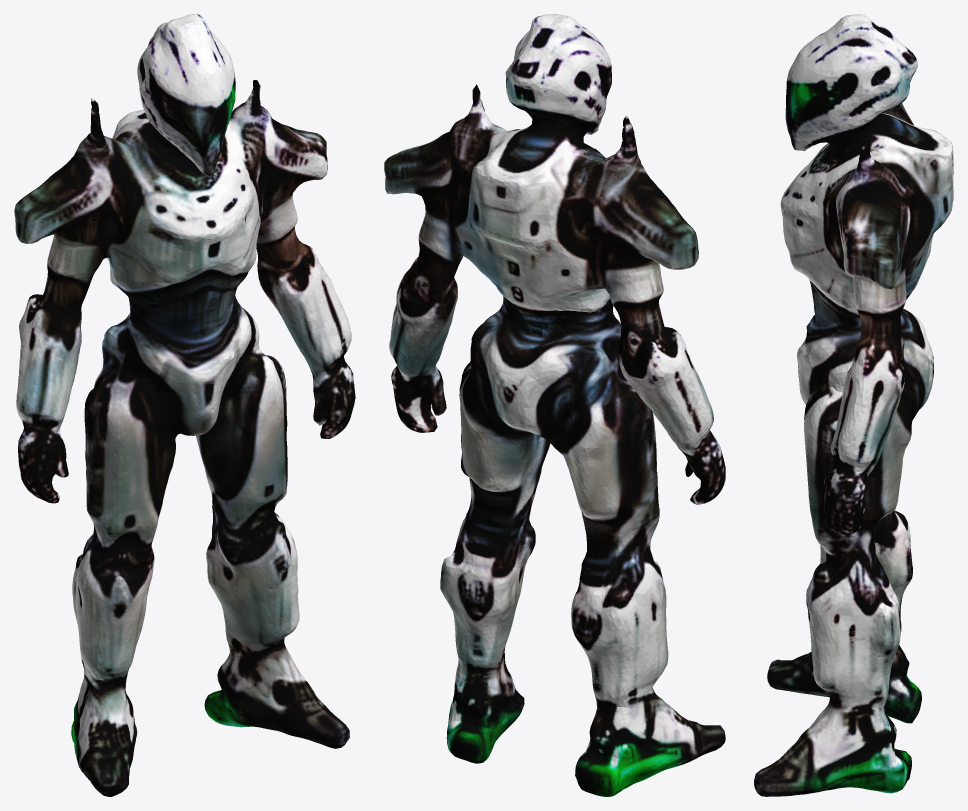
Rendered from humanoid.glb.
3 views of the same model, side by side, from view 1: azimuth 30°, elevation 25°; view 2: azimuth 150°, elevation 25°; view 3: azimuth 270°, elevation 25° (orthographic).
Visible parts, largest first — view 1: mesh.obj; view 2: mesh.obj; view 3: mesh.obj.
Boxes of the visible parts, bbox=[...] form: mesh.obj: bbox=[14, 14, 355, 796]; mesh.obj: bbox=[384, 14, 725, 796]; mesh.obj: bbox=[754, 14, 953, 796].
Size of the model in its own units: 0.6914 by 1.49 by 0.3656.
Materials: 1 (1 with a texture image).
